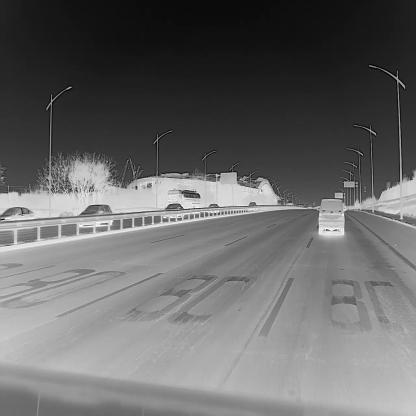car: (318, 197, 345, 234), (77, 203, 115, 229), (166, 188, 202, 213), (163, 202, 185, 218), (55, 208, 76, 223), (2, 207, 30, 218), (208, 202, 220, 213), (248, 201, 257, 210), (286, 199, 293, 207)
